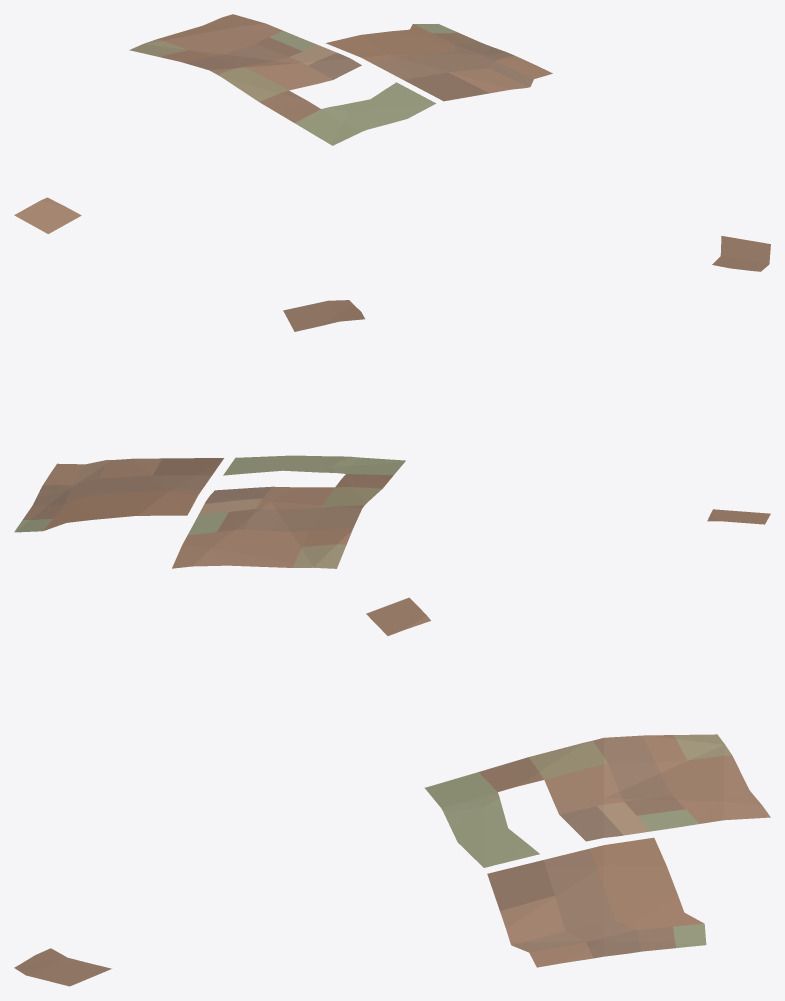
The model's file is farm_1_12_soil.glb.
3 views of the same model, one above another, from view 1: azimuth 30°, elevation 25°; view 2: azimuth 150°, elevation 25°; view 3: azimuth 270°, elevation 25° (orthographic). The views are drawn at different scales.
Visible parts, largest first — view 1: geometry_0; view 2: geometry_0; view 3: geometry_0.
Part boxes in pixels (x1,y1,x2,y2): geometry_0: (14, 14, 770, 271); geometry_0: (14, 300, 770, 568); geometry_0: (14, 597, 770, 986).
Bounding box in the file's own units: 507 × 58.66 × 505.
